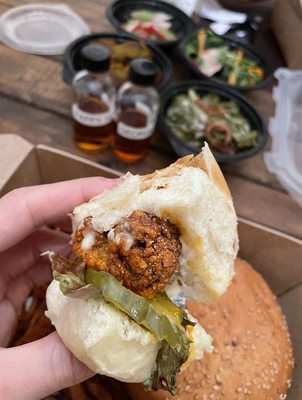soup: (38, 146, 293, 399)
